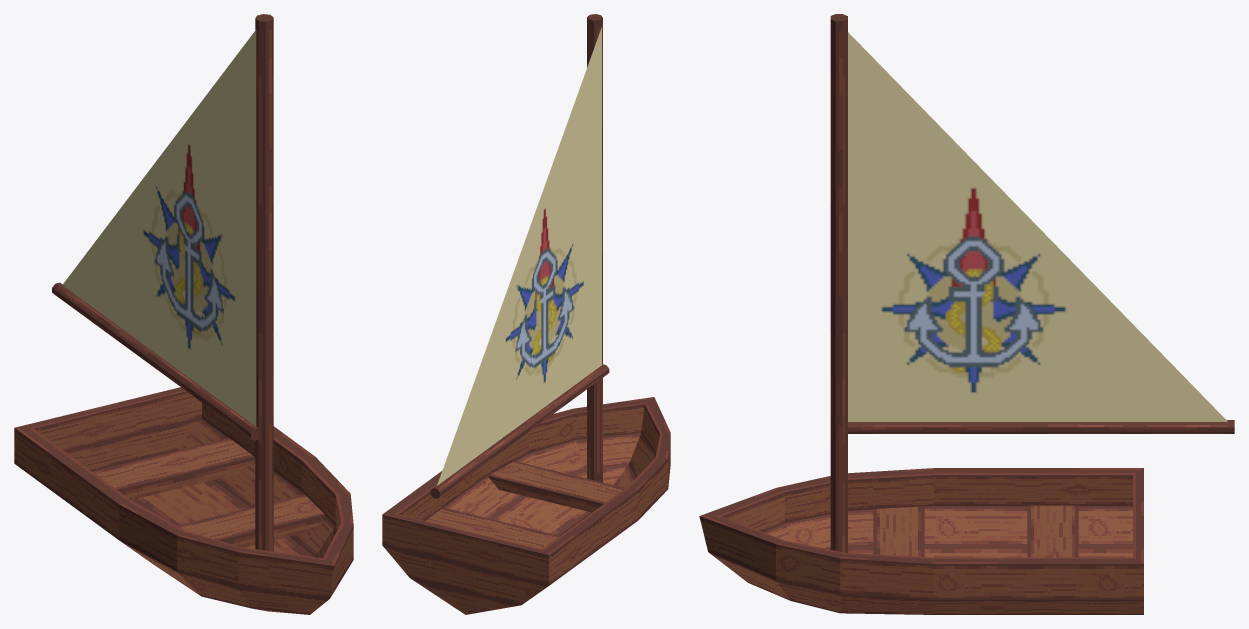
File: the absolute BOAT.fbx
3 renders of one model, left to right at view 1: azimuth 30°, elevation 25°; view 2: azimuth 150°, elevation 25°; view 3: azimuth 270°, elevation 25°, orthographic. The views are drawn at different scales.
Visible parts, largest first — view 1: boat, Sail, Mast; view 2: boat, Sail, Mast; view 3: Sail, boat, Mast.
Part boxes in pixels (box(x1,y1,x2,y2)): boat: box(14, 387, 353, 614); Sail: box(62, 29, 256, 426); Mast: box(52, 14, 273, 551); boat: box(382, 397, 670, 614); Sail: box(437, 27, 601, 485); Mast: box(430, 14, 609, 498); Sail: box(848, 32, 1227, 421); boat: box(699, 468, 1143, 614); Mast: box(830, 14, 1234, 552).
Bounding box in the file's own units: 2 × 5.76 × 4.71.
